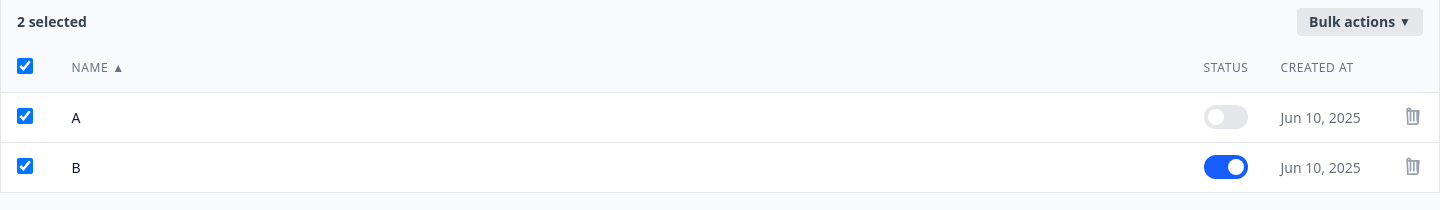
Test case: FlagTable component › bulk actions dropdown + confirm modal › opens dropdown and shows Enable/Disable/Delete
Step 1. Click the button "Bulk actions ▼" → (1360, 22), box [1297,8,1423,36]
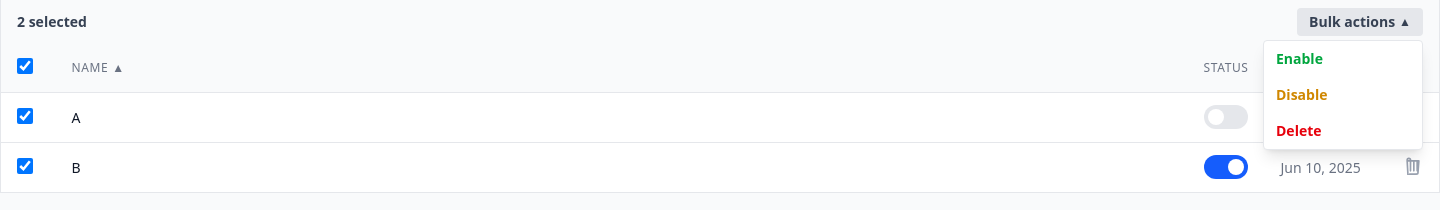
expect the button "Enable" is shown: met, box [1264,41,1422,77]
expect the button "Disable" is shown: met, box [1264,77,1422,113]
expect the button "Delete" is shown: met, box [1264,113,1422,149]
